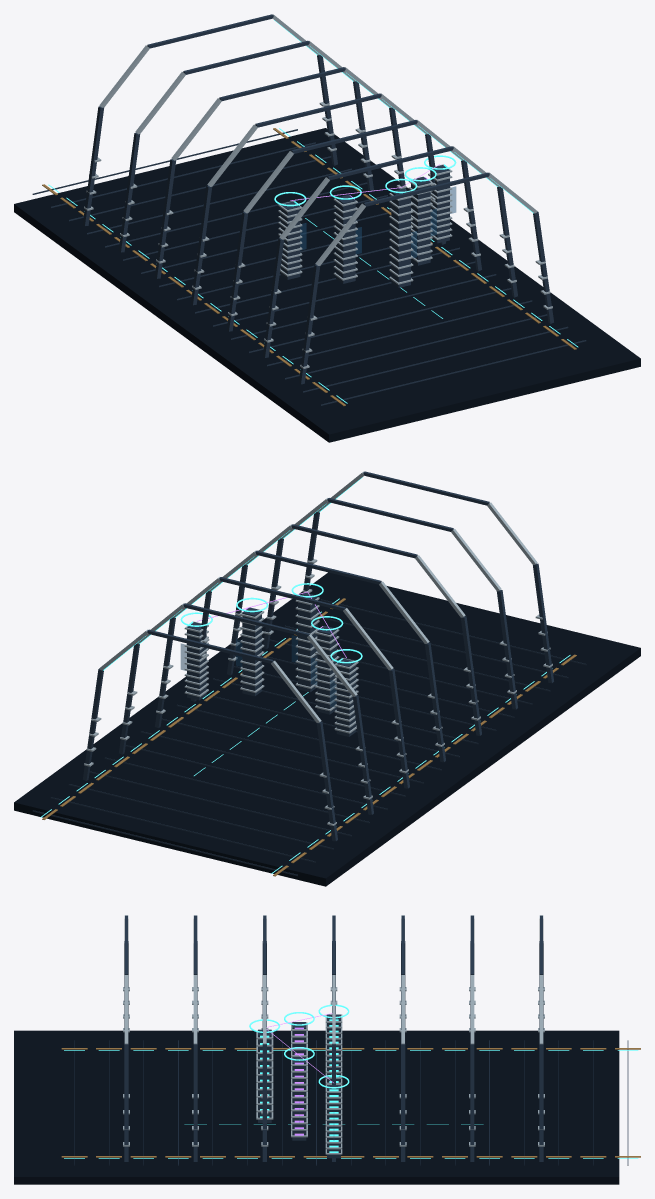
Rendered from relay-mobile.glb.
The picture shows the model from 3 angles, top to bottom: view 1: azimuth 30°, elevation 25°; view 2: azimuth 150°, elevation 25°; view 3: azimuth 270°, elevation 25°; orthographic projection. The views are drawn at different scales.
Parts seen in each view (by area): view 1: object 1, architectural-heart, object 87, object 177, object 132, object 117, object 147, object 162, object 102, object 94, object 109, object 101 (+7 smaller); view 2: object 1, architectural-heart, object 177, object 132, object 87, object 162, object 102, object 117, object 147, object 184, object 169, object 101 (+8 smaller); view 3: object 1, architectural-heart, object 94, object 184, object 109, object 124, object 154, object 169.
Boxes of the visible parts, bbox=[...] form: object 1: bbox=[14, 128, 640, 442]; architectural-heart: bbox=[274, 155, 456, 318]; object 87: bbox=[299, 264, 320, 384]; object 177: bbox=[82, 106, 103, 225]; object 132: bbox=[191, 185, 212, 305]; object 117: bbox=[227, 212, 248, 331]; object 147: bbox=[155, 159, 176, 278]; object 162: bbox=[119, 132, 140, 252]; object 102: bbox=[263, 238, 284, 357]; object 94: bbox=[533, 211, 553, 323]; object 109: bbox=[497, 186, 517, 297]; object 101: bbox=[363, 172, 489, 206]; object 1: bbox=[14, 572, 640, 886]; architectural-heart: bbox=[180, 583, 362, 775]; object 177: bbox=[316, 721, 337, 841]; object 132: bbox=[424, 642, 445, 762]; object 87: bbox=[533, 563, 553, 683]; object 162: bbox=[352, 695, 373, 814]; object 102: bbox=[496, 590, 517, 709]; object 117: bbox=[461, 616, 481, 735]; object 147: bbox=[388, 669, 409, 788]; object 184: bbox=[83, 668, 103, 780]; object 169: bbox=[119, 644, 139, 754]; object 101: bbox=[363, 471, 489, 505]; object 1: bbox=[14, 1030, 619, 1184]; architectural-heart: bbox=[184, 1004, 483, 1158]; object 94: bbox=[124, 1044, 128, 1161]; object 184: bbox=[539, 1044, 543, 1161]; object 109: bbox=[193, 1044, 197, 1161]; object 124: bbox=[262, 1044, 266, 1161]; object 154: bbox=[401, 1044, 405, 1161]; object 169: bbox=[470, 1044, 474, 1161].
Size of the model in its own units: 20 by 10.64 by 36.25.
